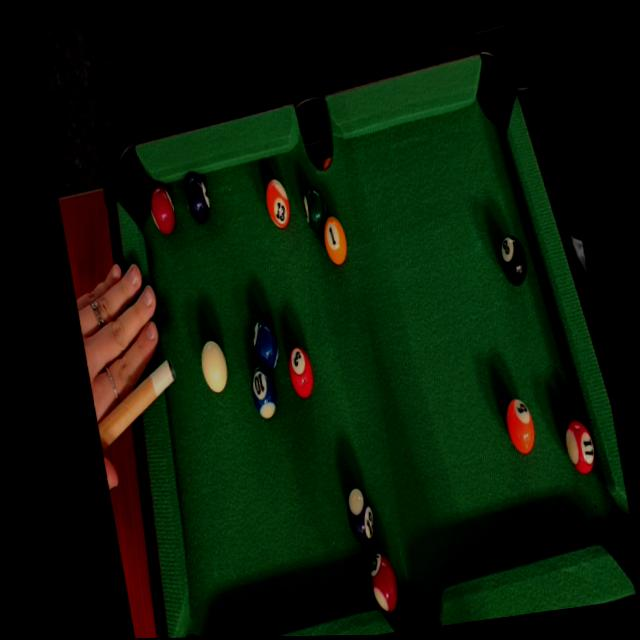cue ball: (193, 334, 236, 401)
other: (557, 414, 604, 479), (498, 392, 541, 460), (244, 358, 284, 430), (365, 549, 402, 623), (178, 162, 217, 227), (341, 485, 380, 549), (316, 207, 354, 272), (248, 308, 283, 374), (142, 175, 180, 235), (295, 178, 334, 236), (282, 341, 317, 405), (259, 171, 295, 232), (497, 229, 530, 285)
